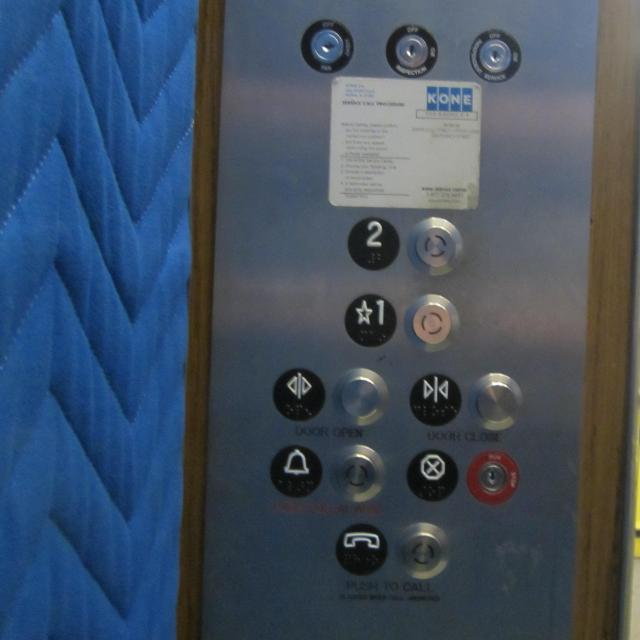2: (344, 215, 402, 273)
alarm: (265, 440, 330, 502)
call: (332, 518, 392, 579)
close: (404, 371, 469, 432)
empty: (402, 286, 469, 356), (465, 364, 530, 436), (326, 359, 395, 425), (404, 215, 470, 281), (326, 440, 390, 508), (392, 517, 454, 585)
keyhole: (464, 445, 524, 510), (466, 24, 527, 87), (294, 15, 358, 74), (382, 19, 442, 78)
open: (268, 363, 332, 424)
s1: (340, 288, 400, 352)
stop: (405, 446, 463, 506)
